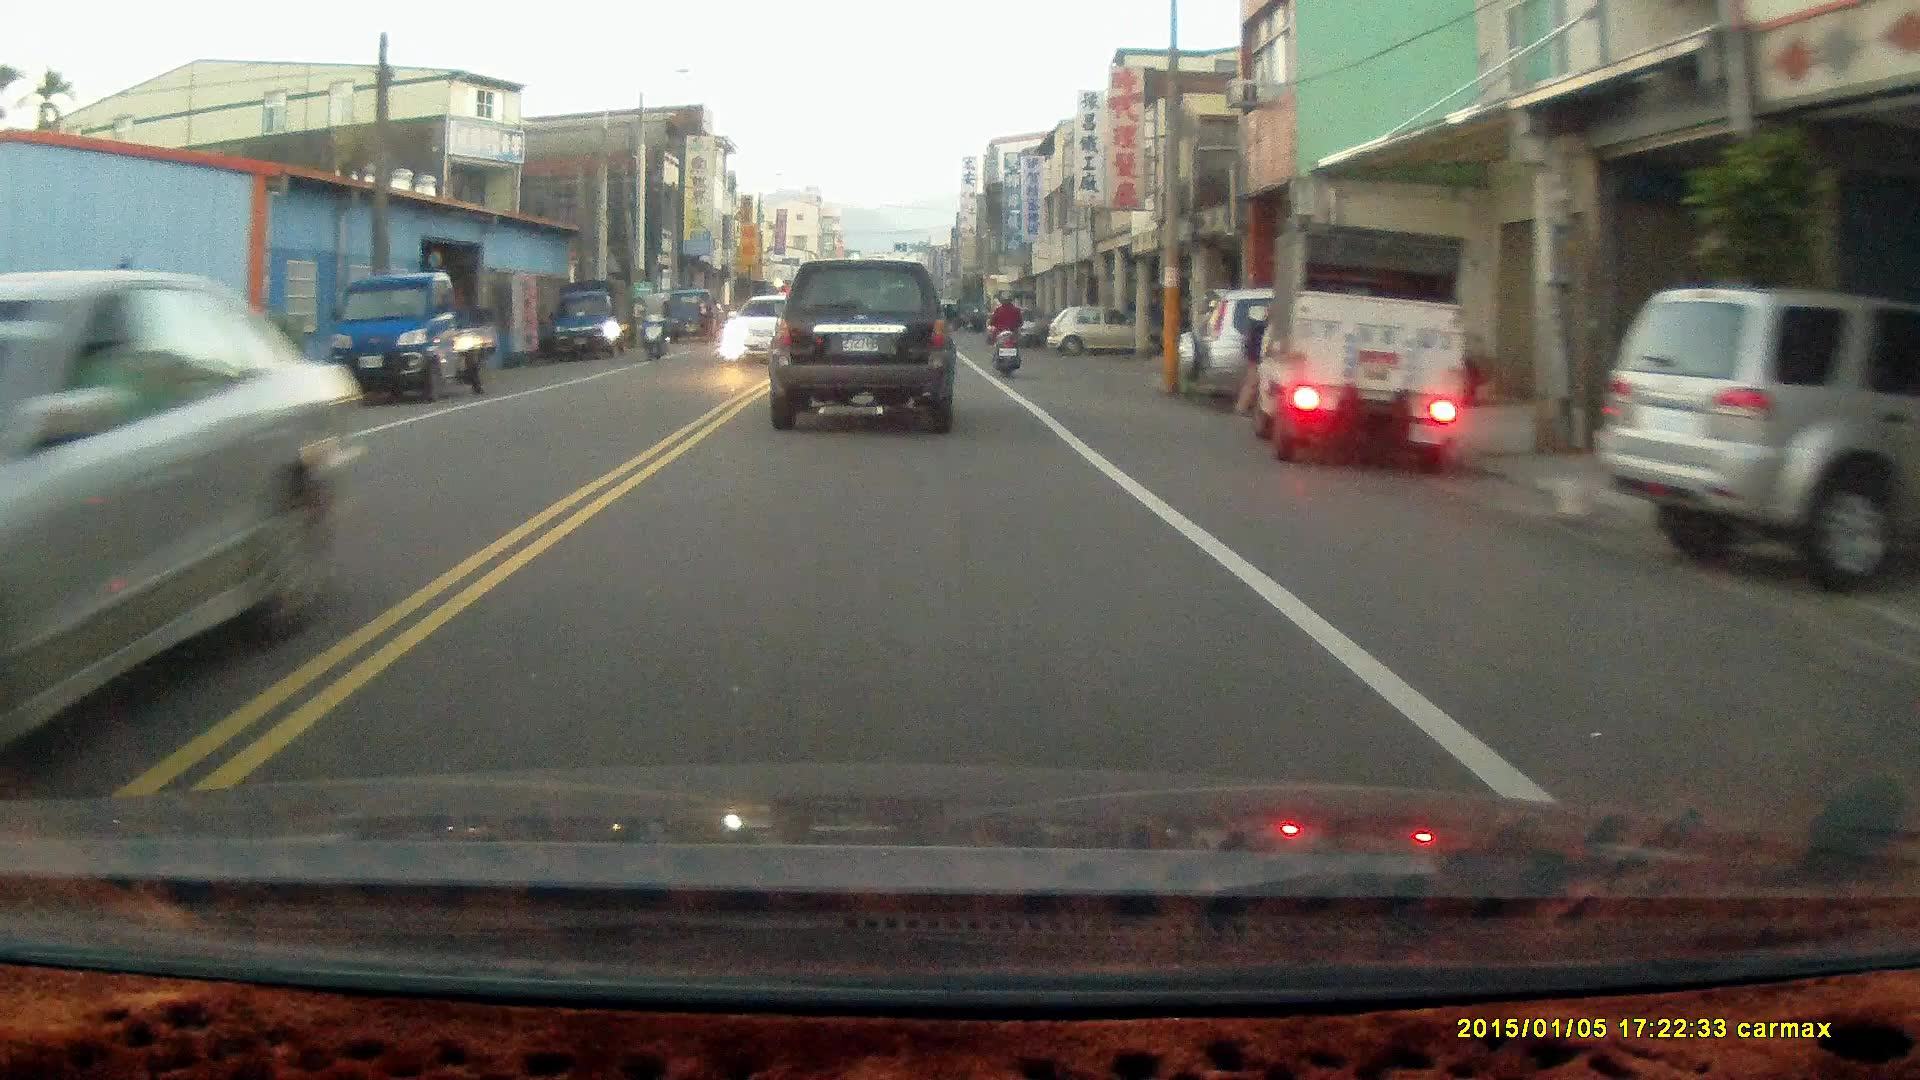pedestrian: (1232, 308, 1271, 415), (693, 296, 713, 346)
rider: (987, 283, 1024, 378), (638, 283, 672, 360)
vehicle: (1, 267, 371, 779), (1608, 284, 1920, 570), (1246, 221, 1474, 468), (1176, 277, 1502, 422), (768, 254, 960, 430), (323, 270, 499, 406), (548, 278, 640, 358), (1052, 305, 1133, 358)
